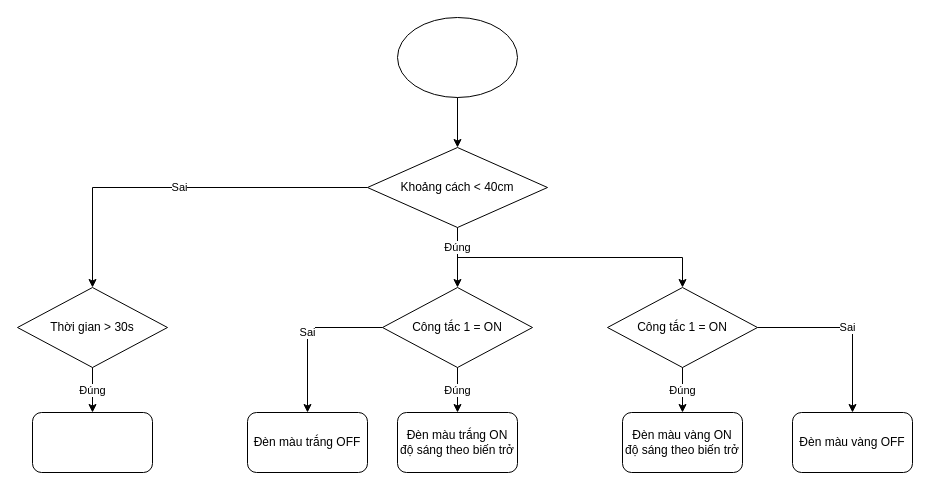
Image size: 930x490. Some labels were removed from this diagram. The shapes that lost their labels are listed below. From the top down, each one's centre as x and y in pixels, then its label:
At pixel 457 57: "Bắt đầu".
At pixel 92 442: "Tất cả đèn tắt".
